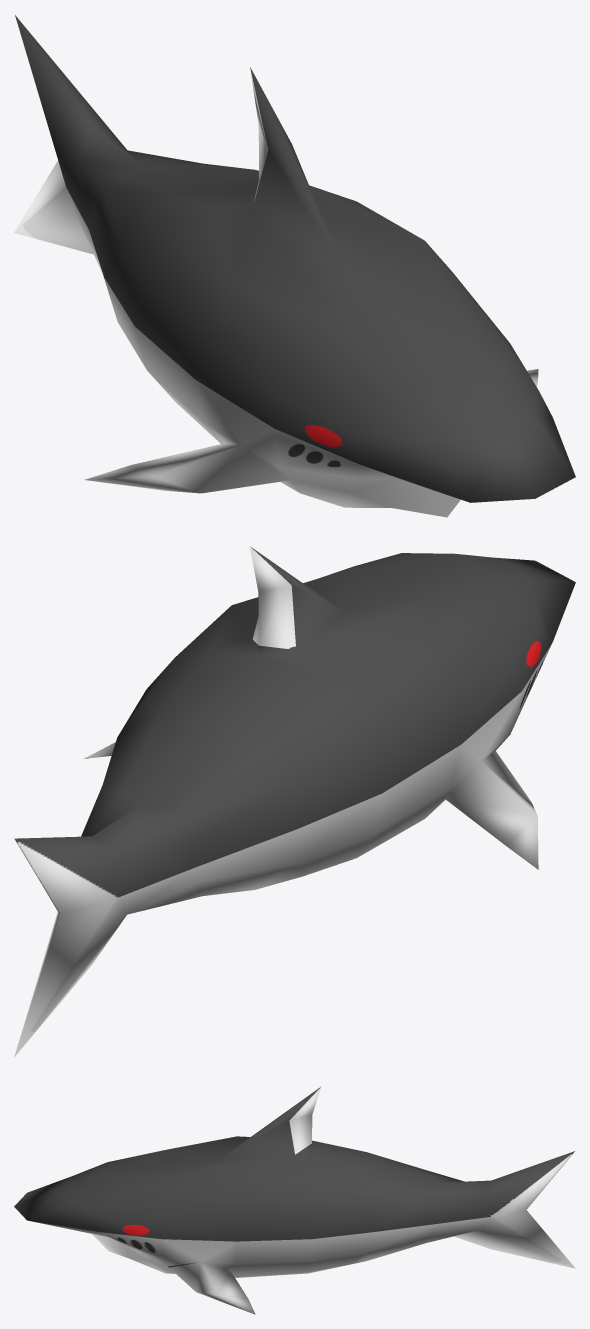
File: shark.obj
3 views of the same model, one above another, from view 1: azimuth 30°, elevation 25°; view 2: azimuth 150°, elevation 25°; view 3: azimuth 270°, elevation 25° (orthographic). The views are drawn at different scales.
Visible parts, largest first — view 1: Cube; view 2: Cube; view 3: Cube.
Boxes of the visible parts, x1,y1,x2,y2 form: Cube: [14, 15, 575, 517]; Cube: [14, 546, 575, 1057]; Cube: [14, 1086, 575, 1314].
Bounding box in the file's own units: 2.47 × 1.76 × 4.89.
1 material, 1 textured.
